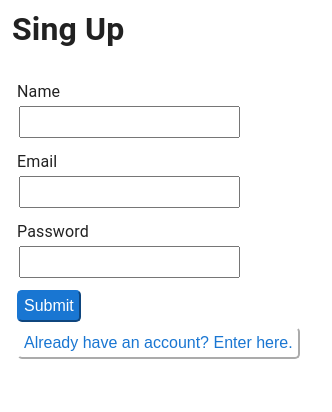
Test case: SignUp › Sing Up form › user fill the form and submit › should show error message if there is a missing field
This screenshot has width=332, height=412.
Type "test name" into the field labelled "Name" at (130, 122), box [19,106,240,138]
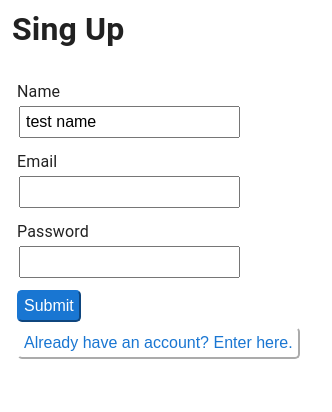
Type "test email" into the field labelled "Email" at (130, 192), box [19,176,240,208]
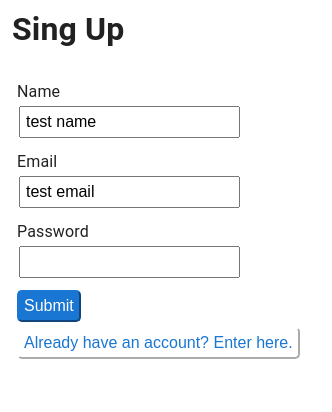
Click the button "Submit" at (49, 306), box [17,290,81,322]
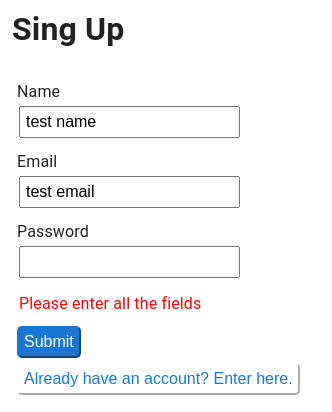
Now the text "Please enter all the fields" is shown, box [19,294,201,313]
